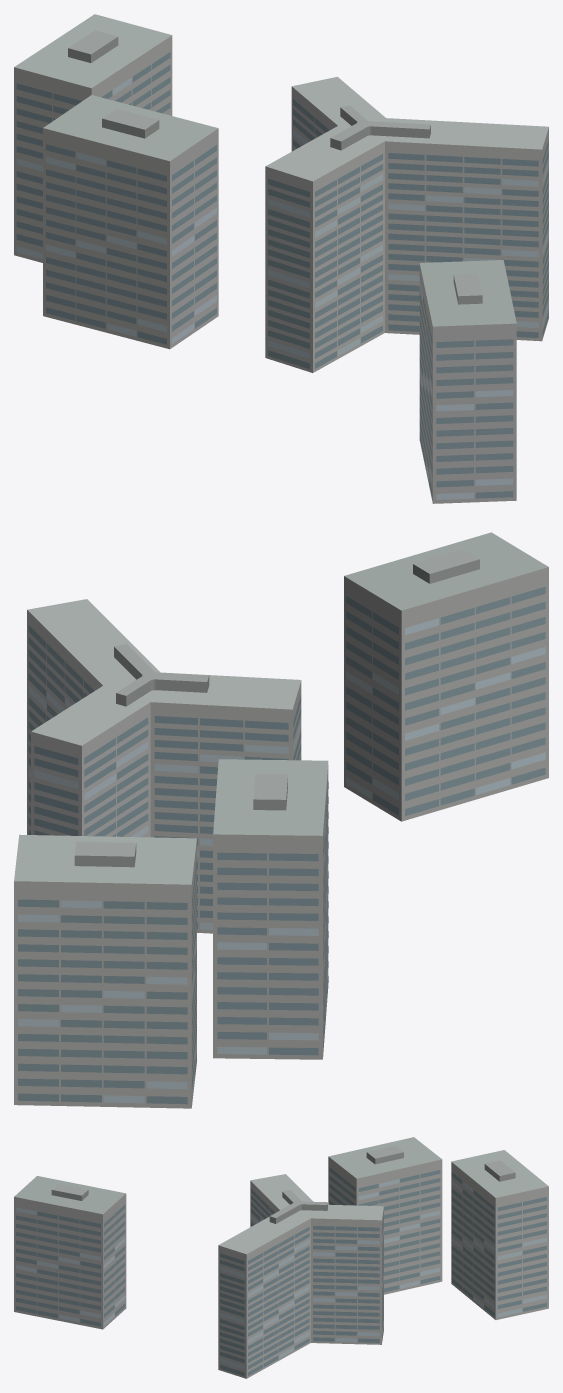
Rendered from apt-a15083201.glb.
The picture shows the model from 3 angles, top to bottom: view 1: azimuth 30°, elevation 25°; view 2: azimuth 150°, elevation 25°; view 3: azimuth 270°, elevation 25°; orthographic projection. The views are drawn at different scales.
Visible parts, largest first — view 1: apt-a15083201; view 2: apt-a15083201; view 3: apt-a15083201.
Boxes of the visible parts, left/top/right/bottom form: apt-a15083201: left=14, top=14, right=548, bottom=503; apt-a15083201: left=14, top=532, right=548, bottom=1108; apt-a15083201: left=14, top=1137, right=548, bottom=1378.
Size of the model in its own units: 104 by 53 by 197.
